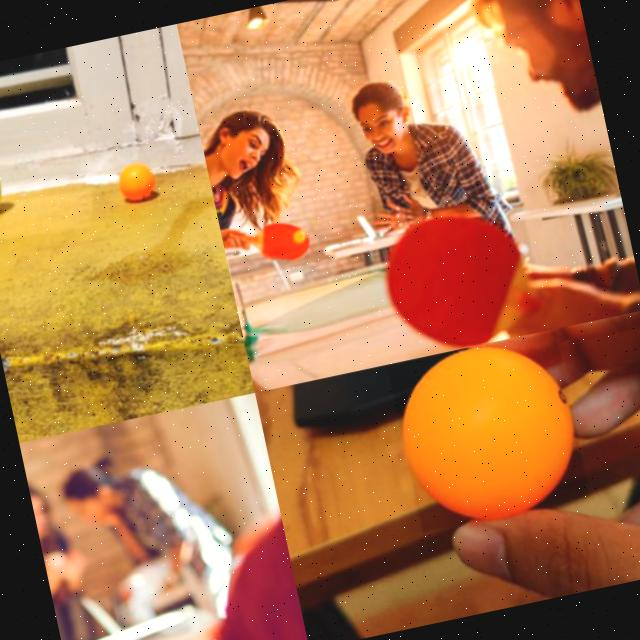ping-pong-ball: (387, 331, 590, 533), (115, 158, 158, 201), (293, 230, 305, 243)
